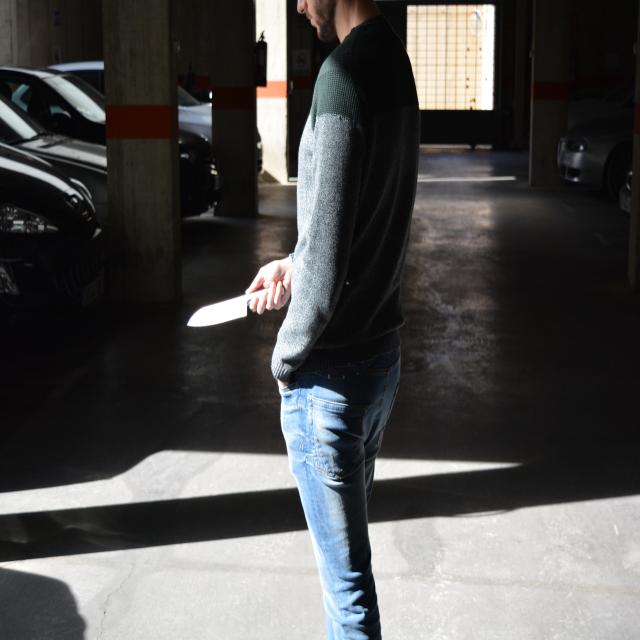knife: (187, 289, 257, 338)
